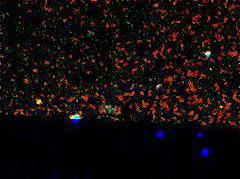star: (24, 92, 54, 122)
